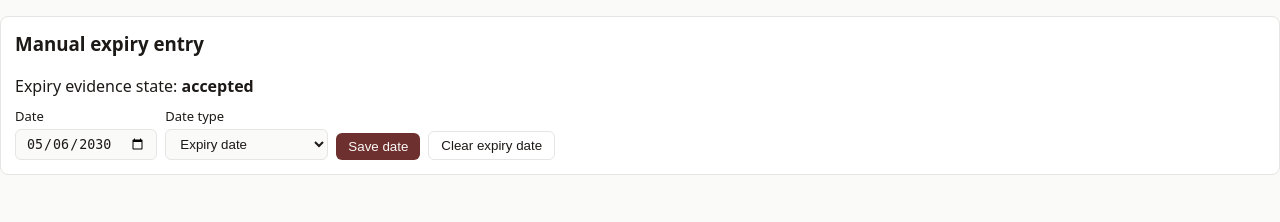
Scenario: ExpiryEntryForm › Clear sends the active token and empties the date
Click the button "Clear expiry date" at (492, 146), box [428,131,555,160]
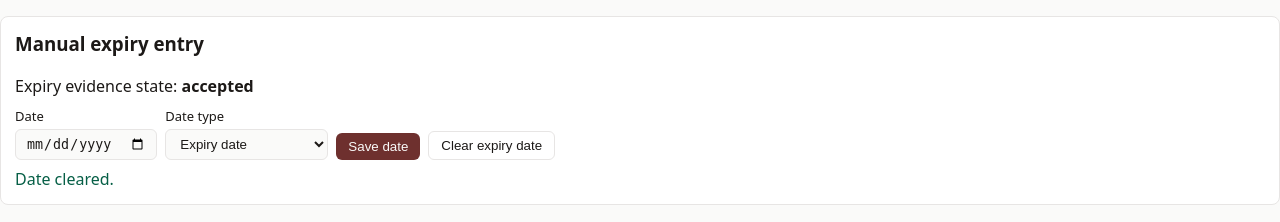
Now the text "Date cleared." is shown, box [15,168,114,190]
Now the date field labelled "Date" is empty, box [15,129,157,160]
